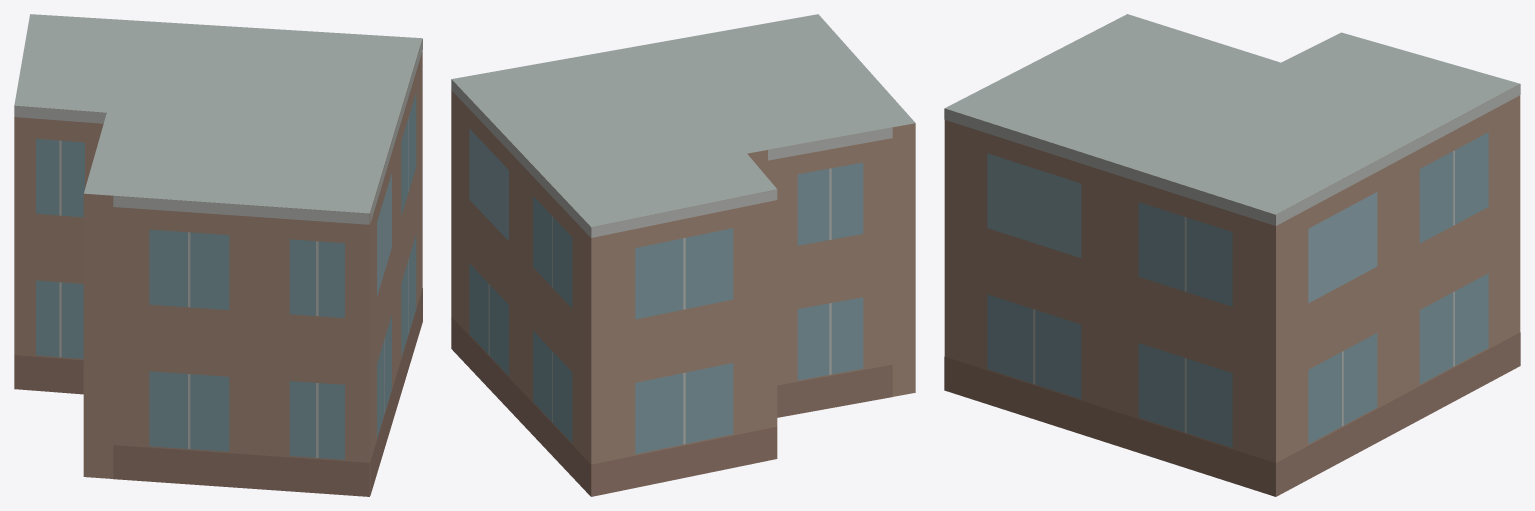
Rendered from survey-upis-32919911.glb.
3 views of the same model, side by side, from view 1: azimuth 30°, elevation 25°; view 2: azimuth 150°, elevation 25°; view 3: azimuth 270°, elevation 25° (orthographic). The views are drawn at different scales.
Visible parts, largest first — view 1: survey-upis-32919911.tmp; view 2: survey-upis-32919911.tmp; view 3: survey-upis-32919911.tmp.
Part boxes in pixels (<box>): survey-upis-32919911.tmp: <box>14,14,422,496</box>; survey-upis-32919911.tmp: <box>451,14,915,496</box>; survey-upis-32919911.tmp: <box>944,14,1520,496</box>.
Size of the model in its own units: 9.32 by 6.1 by 11.3.
